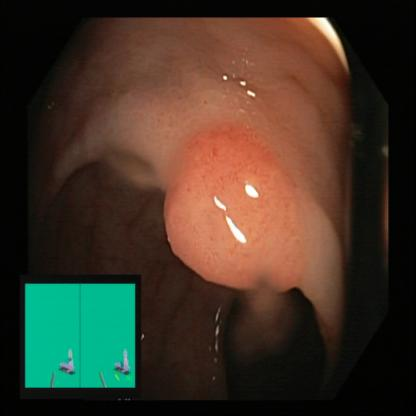Labels: (23, 271, 141, 395)
Polyps: (167, 141, 332, 295)
